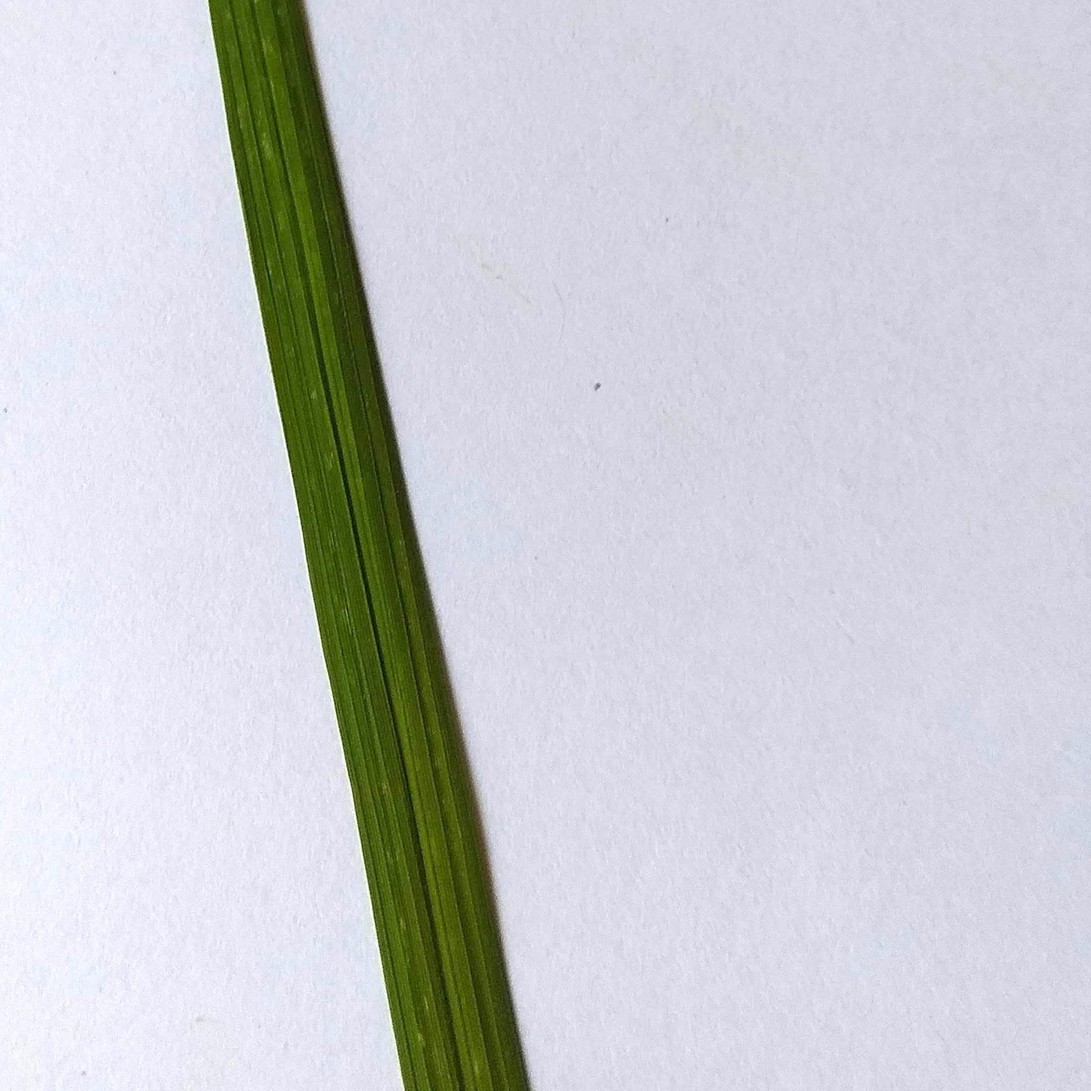Healthy: (208, 0, 528, 1090)
